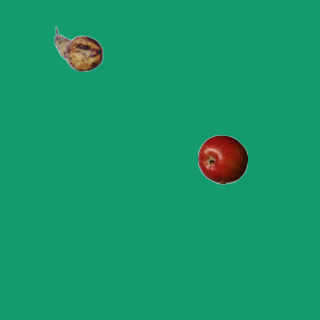Apple Braeburn: (197, 134, 247, 184)
Pear Abate: (53, 24, 103, 74)
